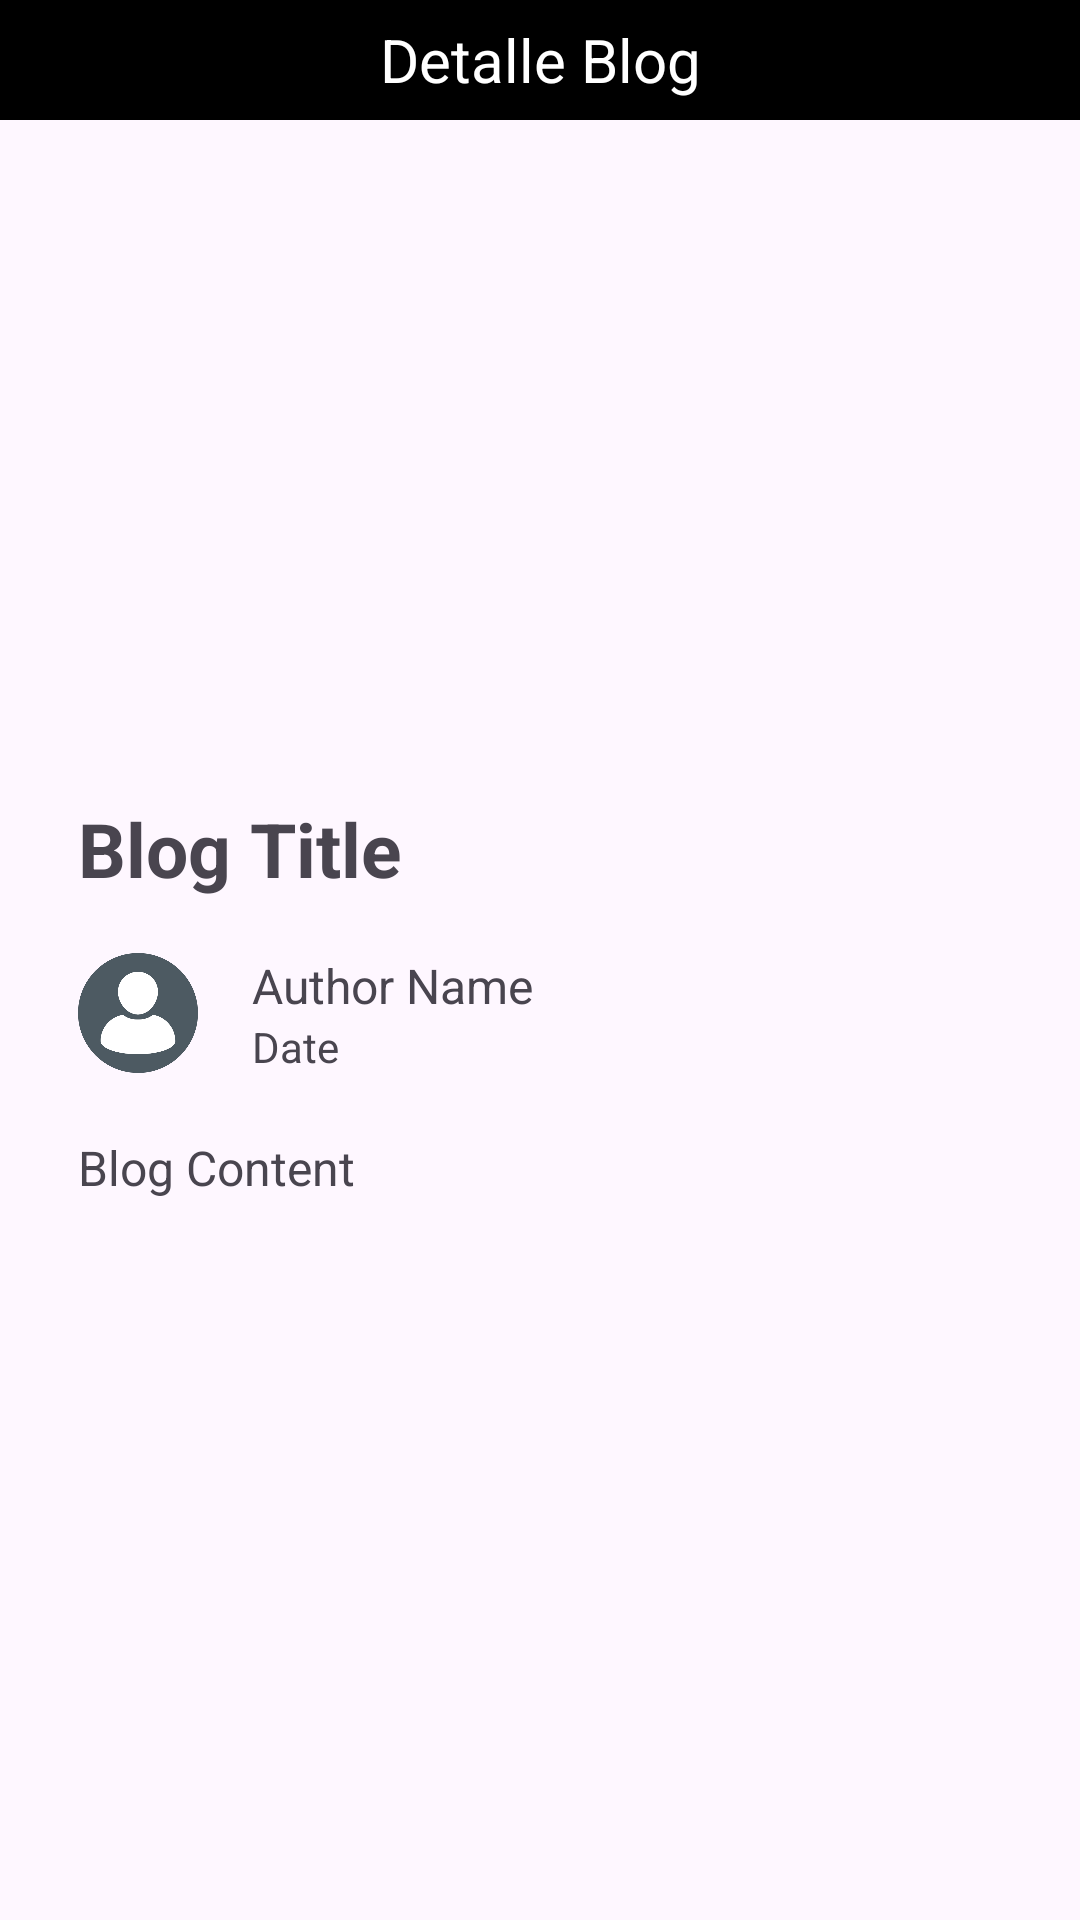

Where to tap for icons on this 1080px x 1920px app screen, as (x,y):
profile: (138,1013)
